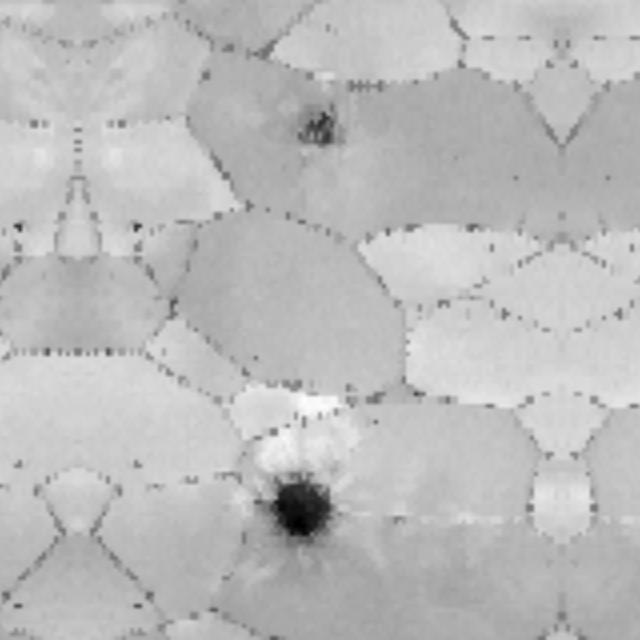good_void: (249, 468, 344, 555), (284, 95, 362, 166), (199, 70, 215, 84), (130, 221, 143, 235), (13, 221, 26, 235), (485, 241, 498, 254), (626, 241, 639, 254), (131, 460, 143, 474), (13, 460, 25, 474), (323, 19, 332, 37)
